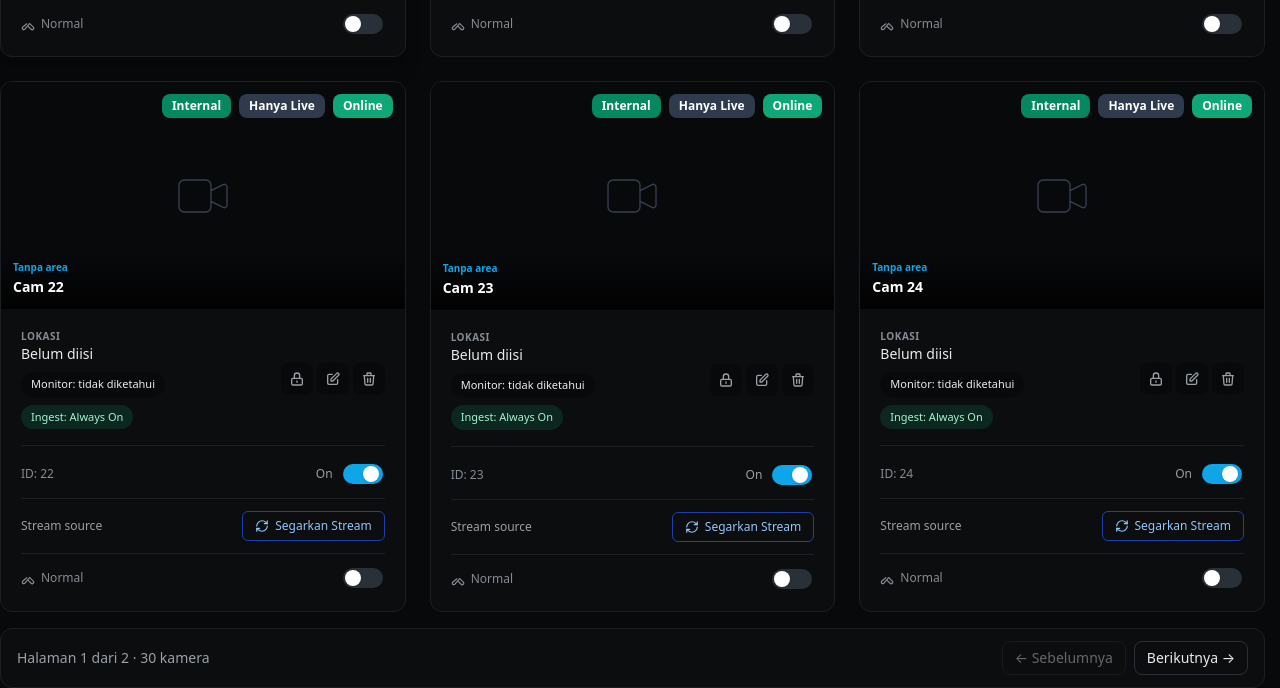
Test: CameraGrid pagination › caps a large fleet to 24 cards and pages through the rest
The image size is (1280, 688).
(page scrolled)
Expected: the heading "Cam 24" is shown, 872,278 -> 923,296
Expected: the text "Cam 25" is not shown
Click the button "Berikutnya →" at (1191, 658), box 1134,640 -> 1248,674
(page scrolled)
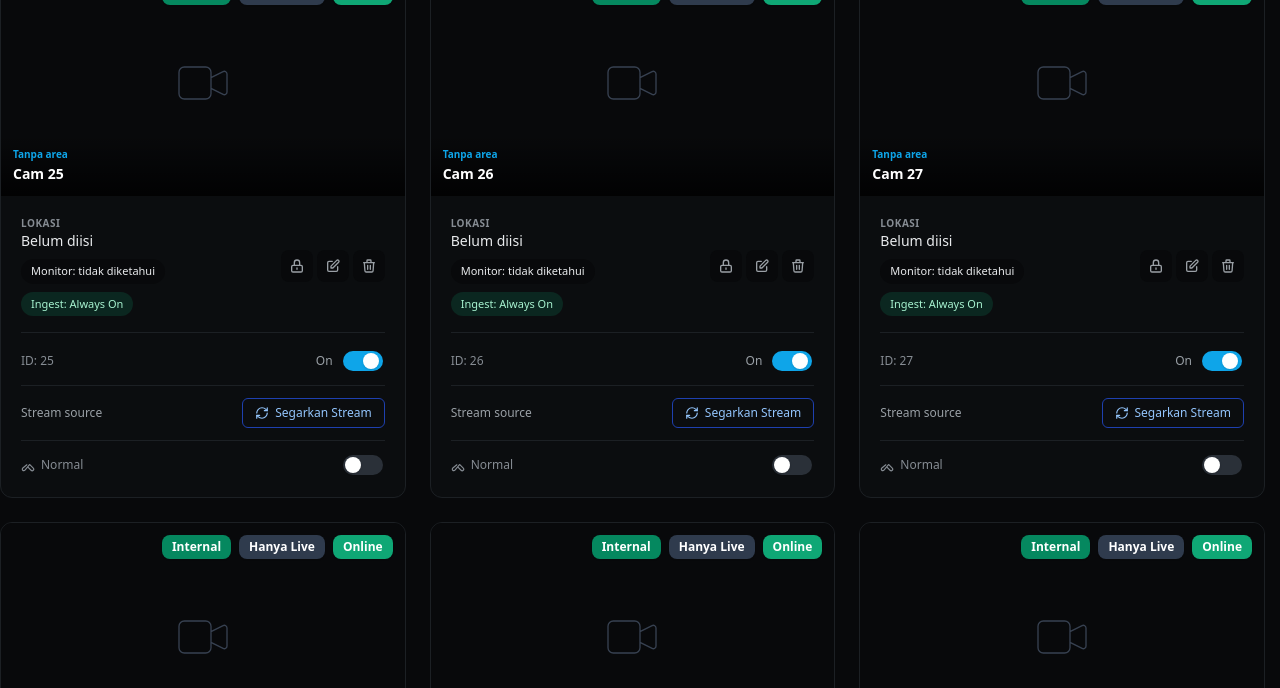
Expected: the heading "Cam 25" is shown, 13,164 -> 64,183
Expected: the heading "Cam 24" is gone
